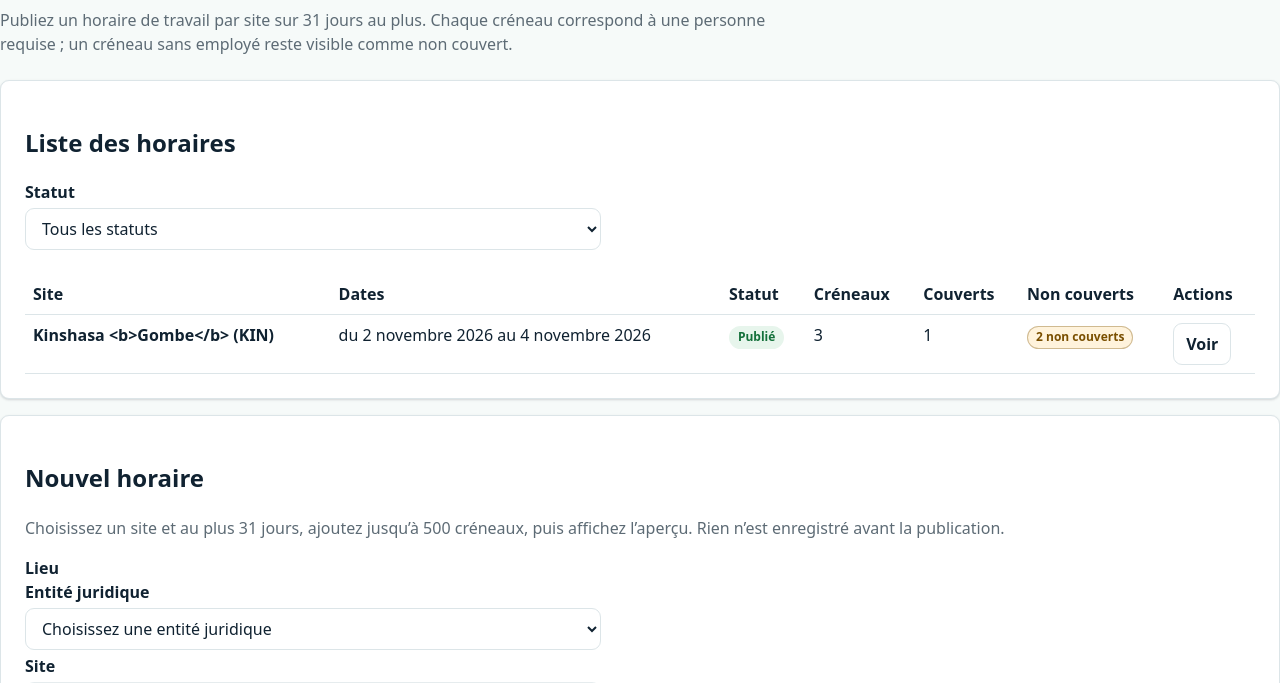
Test: MVP-050B schedule lifecycle (fr) › abandons a replacement for a new empty schedule
This screenshot has width=1280, height=683.
Click the button "Voir" at (1202, 344), box [1173,323,1231,365]
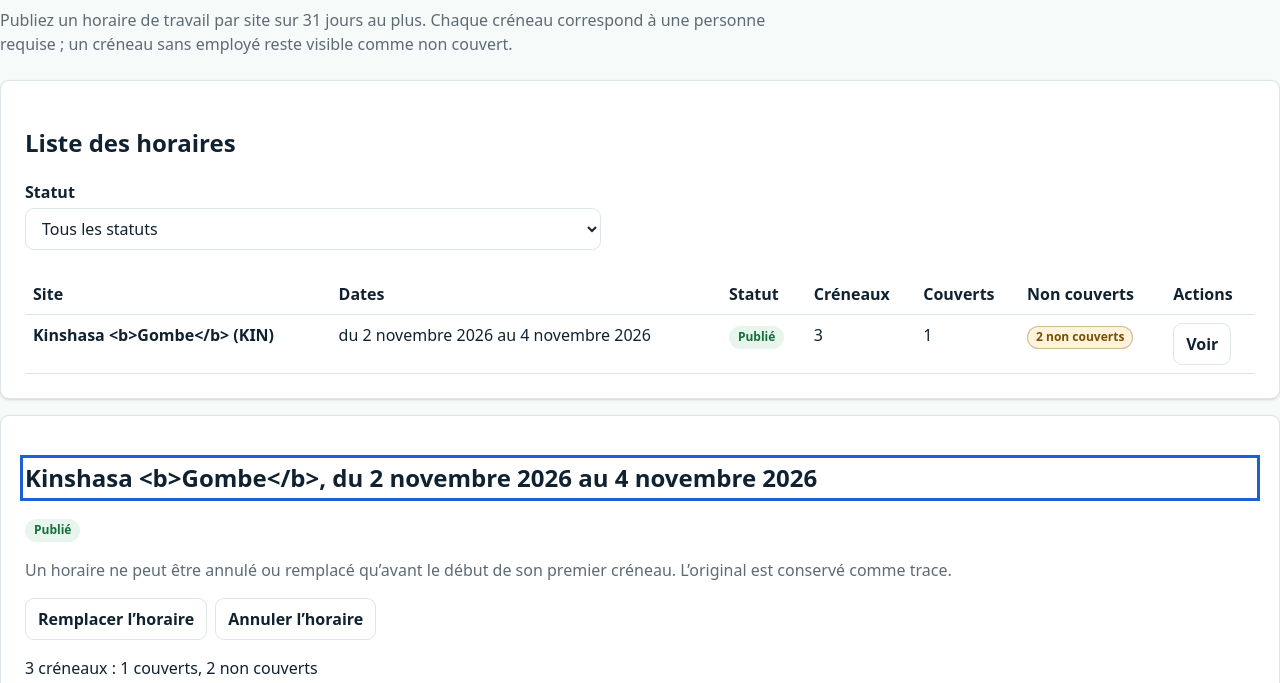
Click the button "Remplacer l’horaire" at (116, 619), box [25,598,207,640]
(page scrolled)
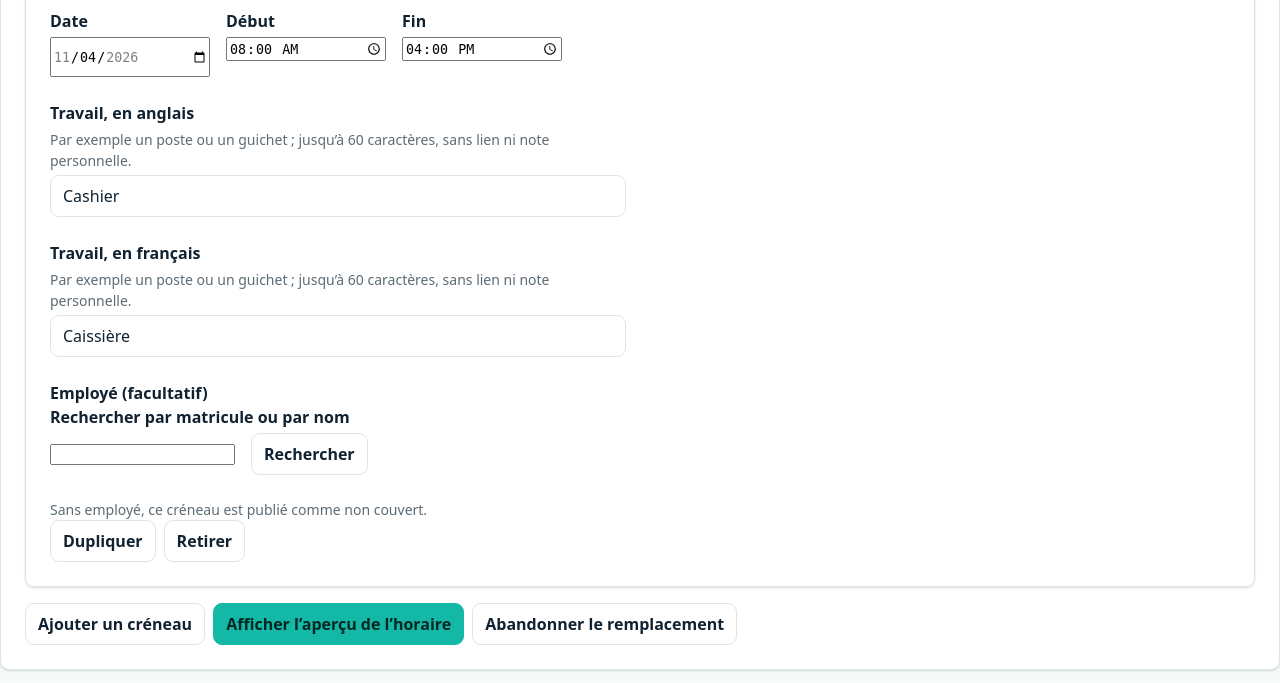
Click the button "Abandonner le remplacement" at (605, 624), box [472,603,737,645]
(page scrolled)
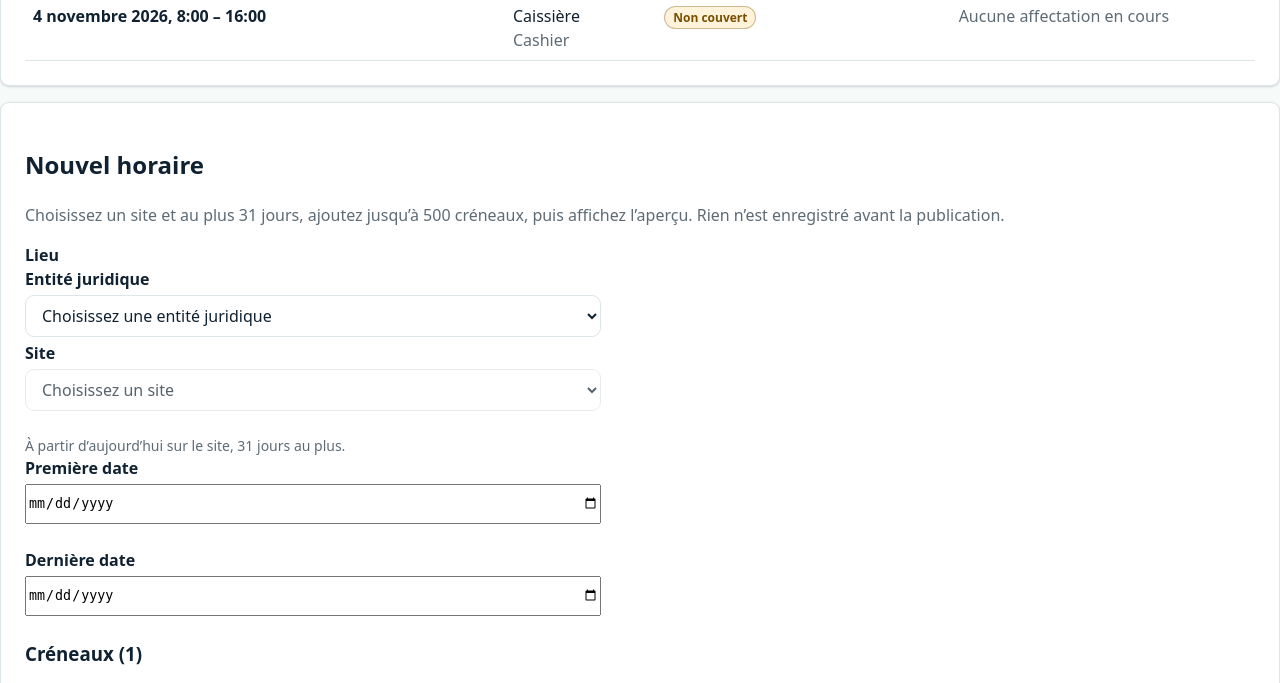
Now the element with test id "site-choice" is shown, box [25,243,601,411]
